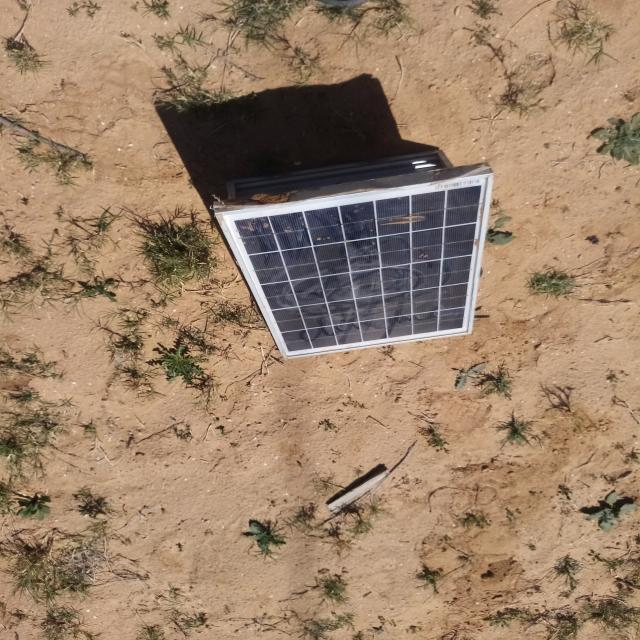faulty: (219, 174, 491, 358)
